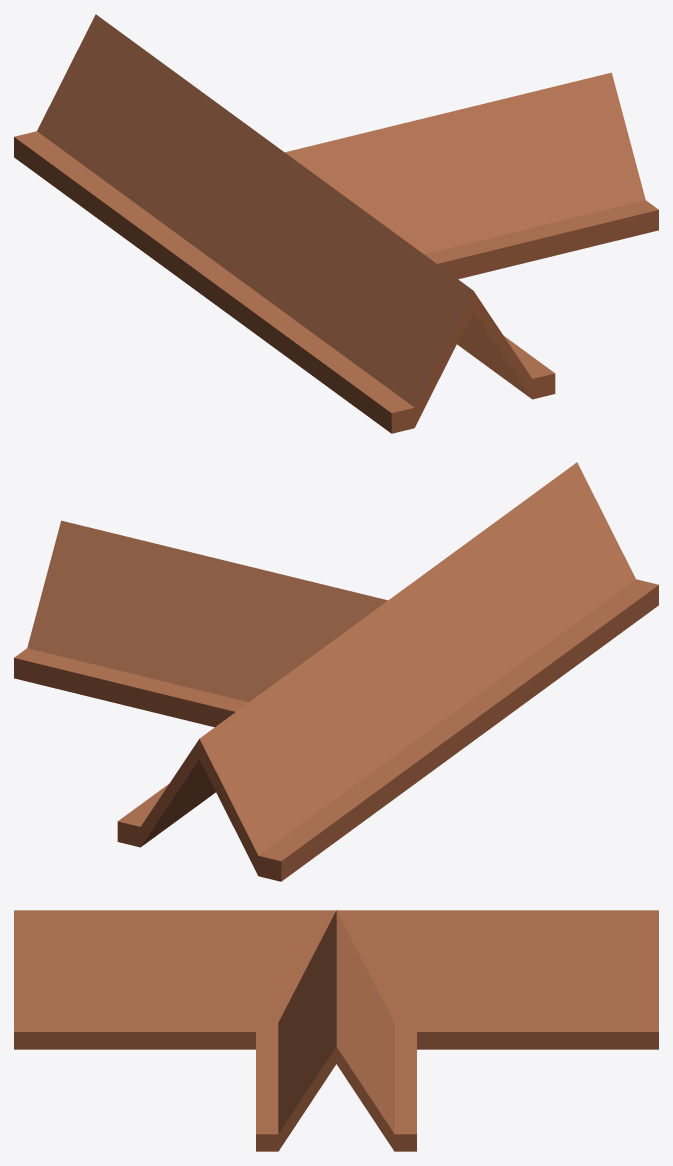
The picture shows the model from 3 angles, top to bottom: view 1: azimuth 30°, elevation 25°; view 2: azimuth 150°, elevation 25°; view 3: azimuth 270°, elevation 25°; orthographic projection. The views are drawn at different scales.
Parts seen in each view (by area): view 1: WholeContinuousTRidgeCap; view 2: WholeContinuousTRidgeCap; view 3: WholeContinuousTRidgeCap.
Boxes of the visible parts, left/top/right/bottom form: WholeContinuousTRidgeCap: left=14, top=14, right=658, bottom=433; WholeContinuousTRidgeCap: left=14, top=462, right=658, bottom=881; WholeContinuousTRidgeCap: left=14, top=910, right=658, bottom=1151.
Bounding box in the file's own units: 1.25 × 0.36 × 2.
